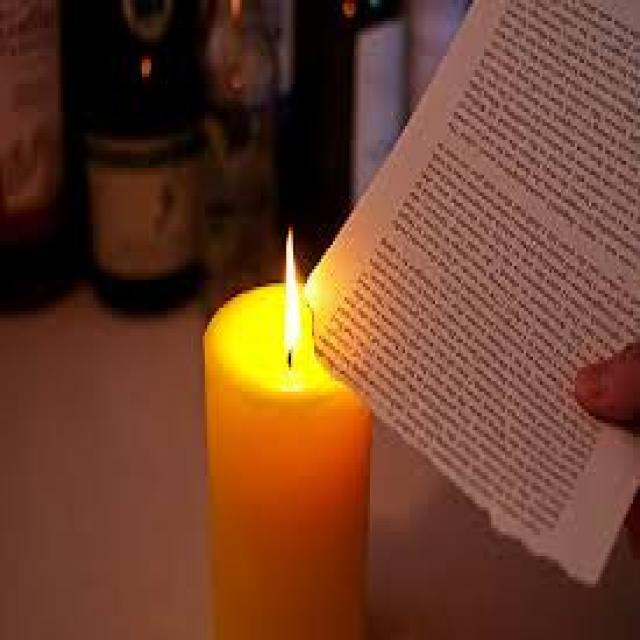fire: (283, 228, 301, 352)
